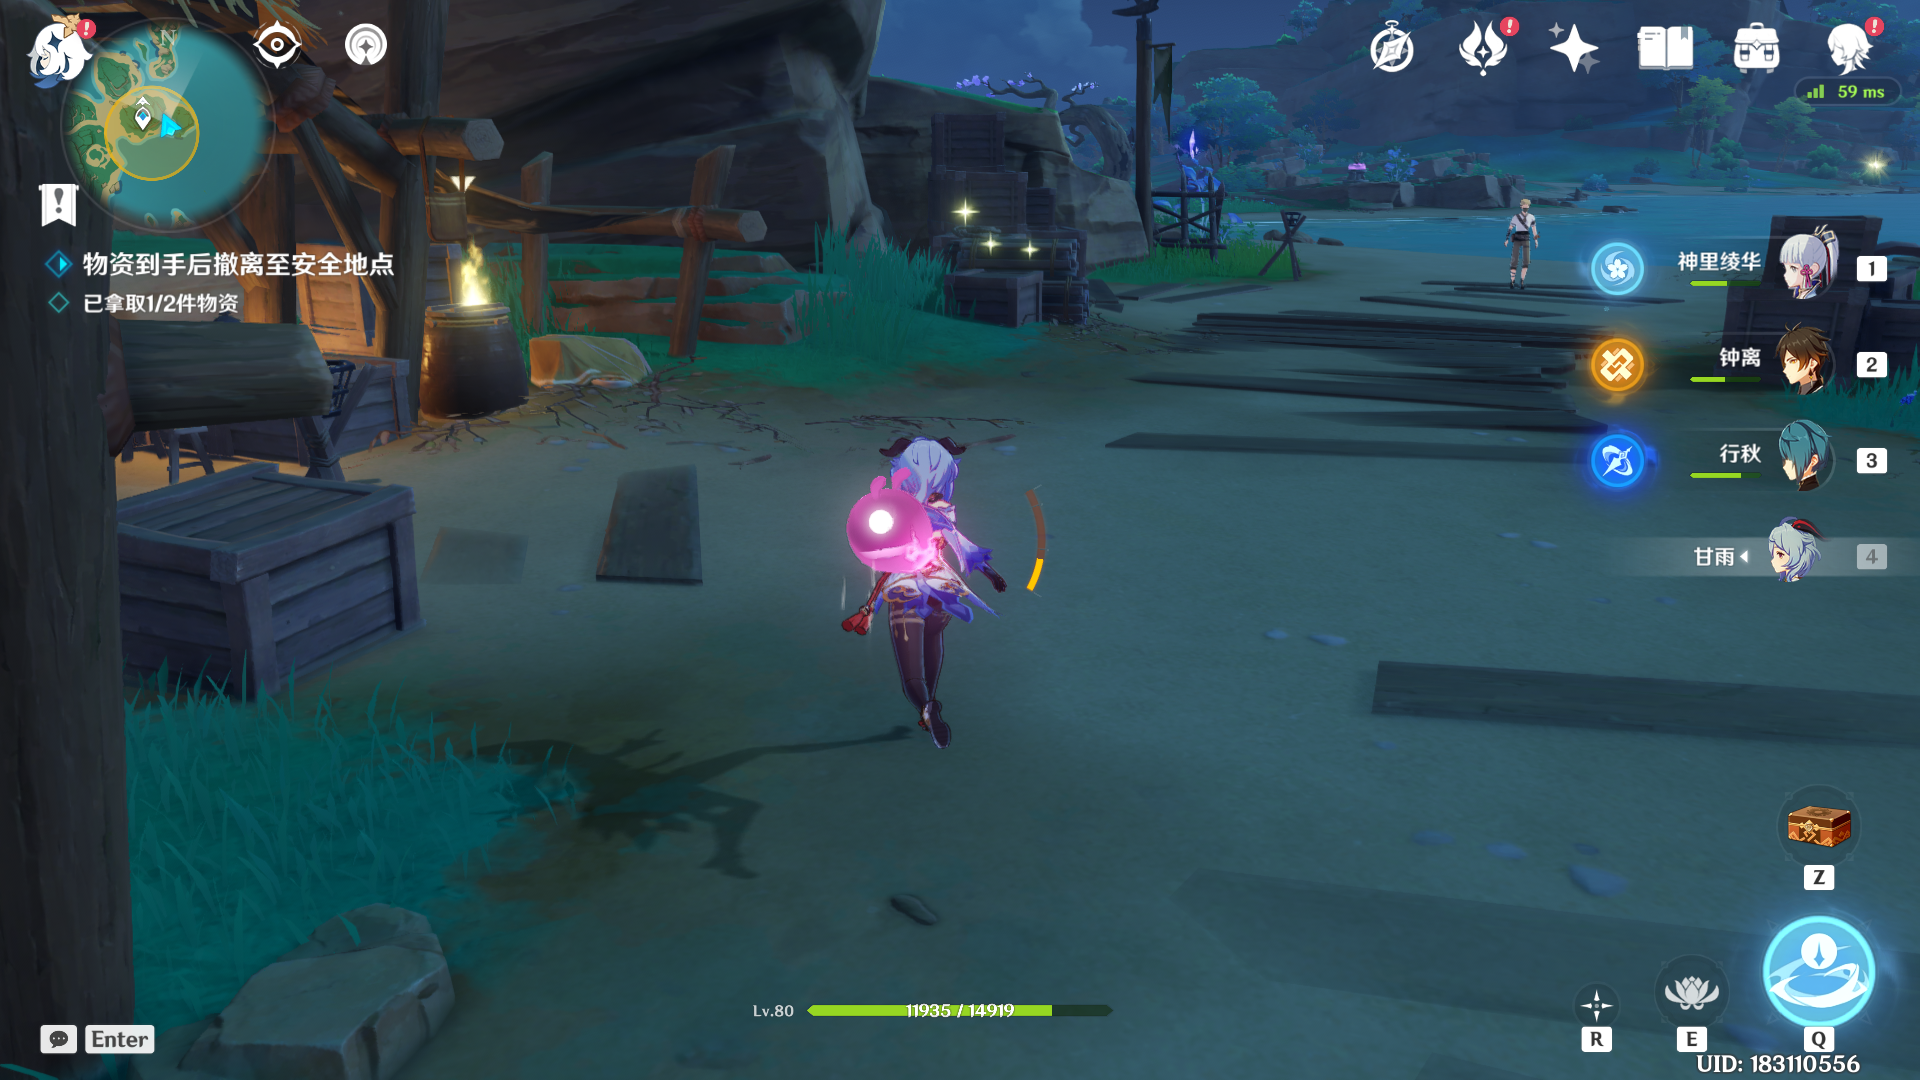character: (786, 381, 1069, 798)
robber: (1487, 179, 1561, 316)
